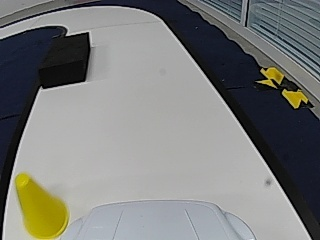block: (39, 31, 90, 88)
cone: (15, 171, 70, 237)
